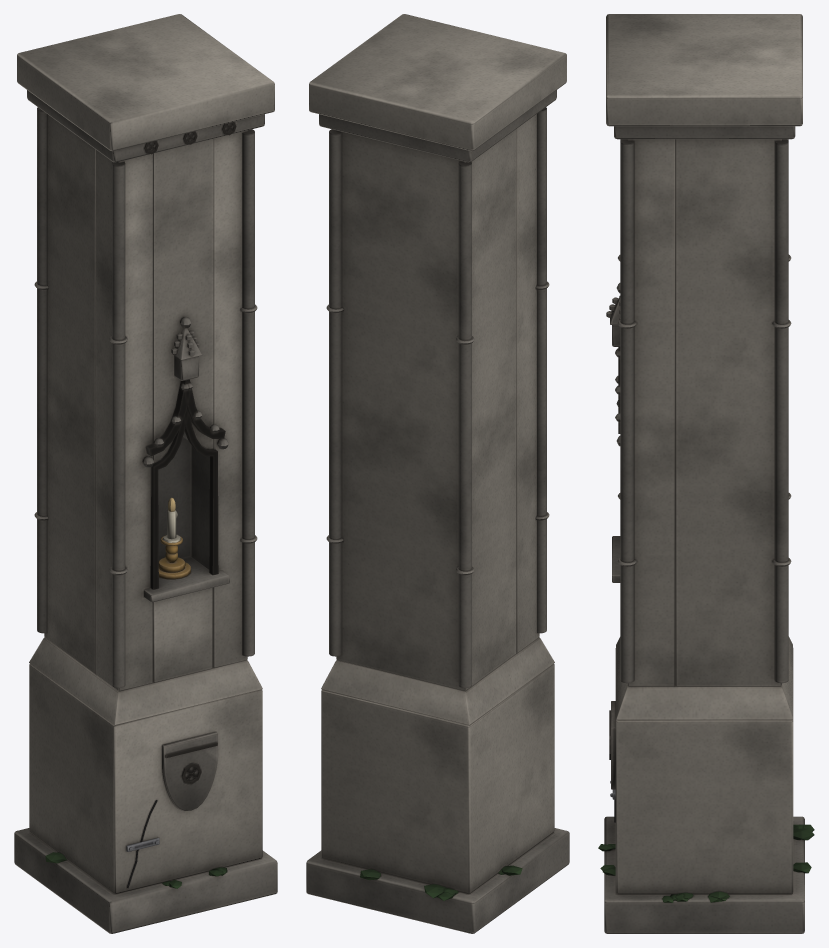
The model's file is PillarNiche.fbx.
3 renders of one model, left to right at view 1: azimuth 30°, elevation 25°; view 2: azimuth 150°, elevation 25°; view 3: azimuth 270°, elevation 25°, orthographic. The views are drawn at different scales.
Visible parts, largest first — view 1: PillarNiche_Main; view 2: PillarNiche_Main; view 3: PillarNiche_Main.
Boxes of the visible parts, bbox=[...] form: PillarNiche_Main: bbox=[14, 14, 277, 933]; PillarNiche_Main: bbox=[306, 14, 569, 933]; PillarNiche_Main: bbox=[598, 14, 814, 933].
Size of the model in its own units: 274 by 1198 by 281.
